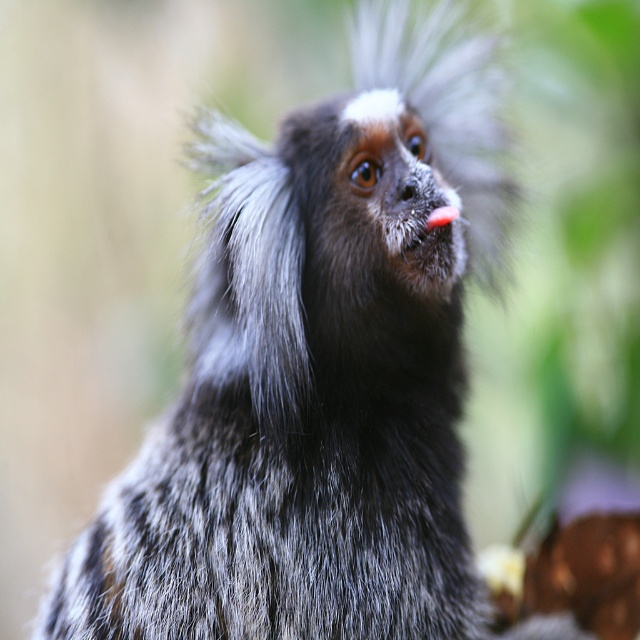Monkey: (0, 0, 546, 640)
